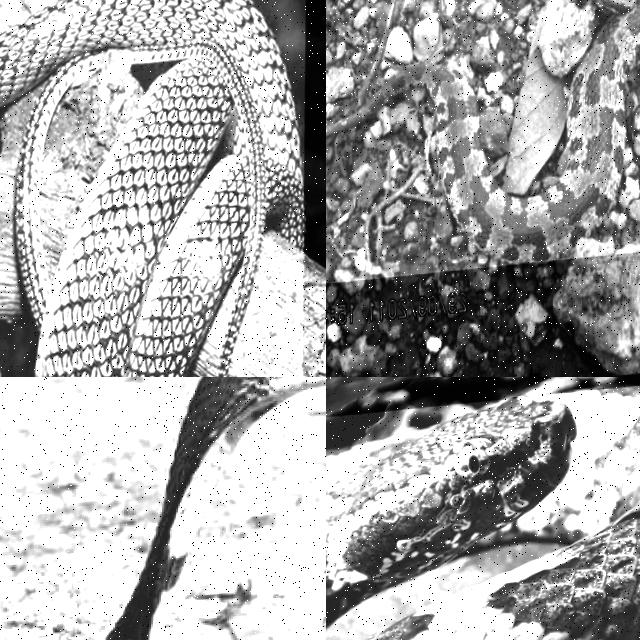Chrysopelea ornata: (0, 0, 302, 376)
Naja siamensis: (106, 377, 325, 639)
Ovophis monticola: (326, 0, 639, 263), (326, 388, 639, 639)
